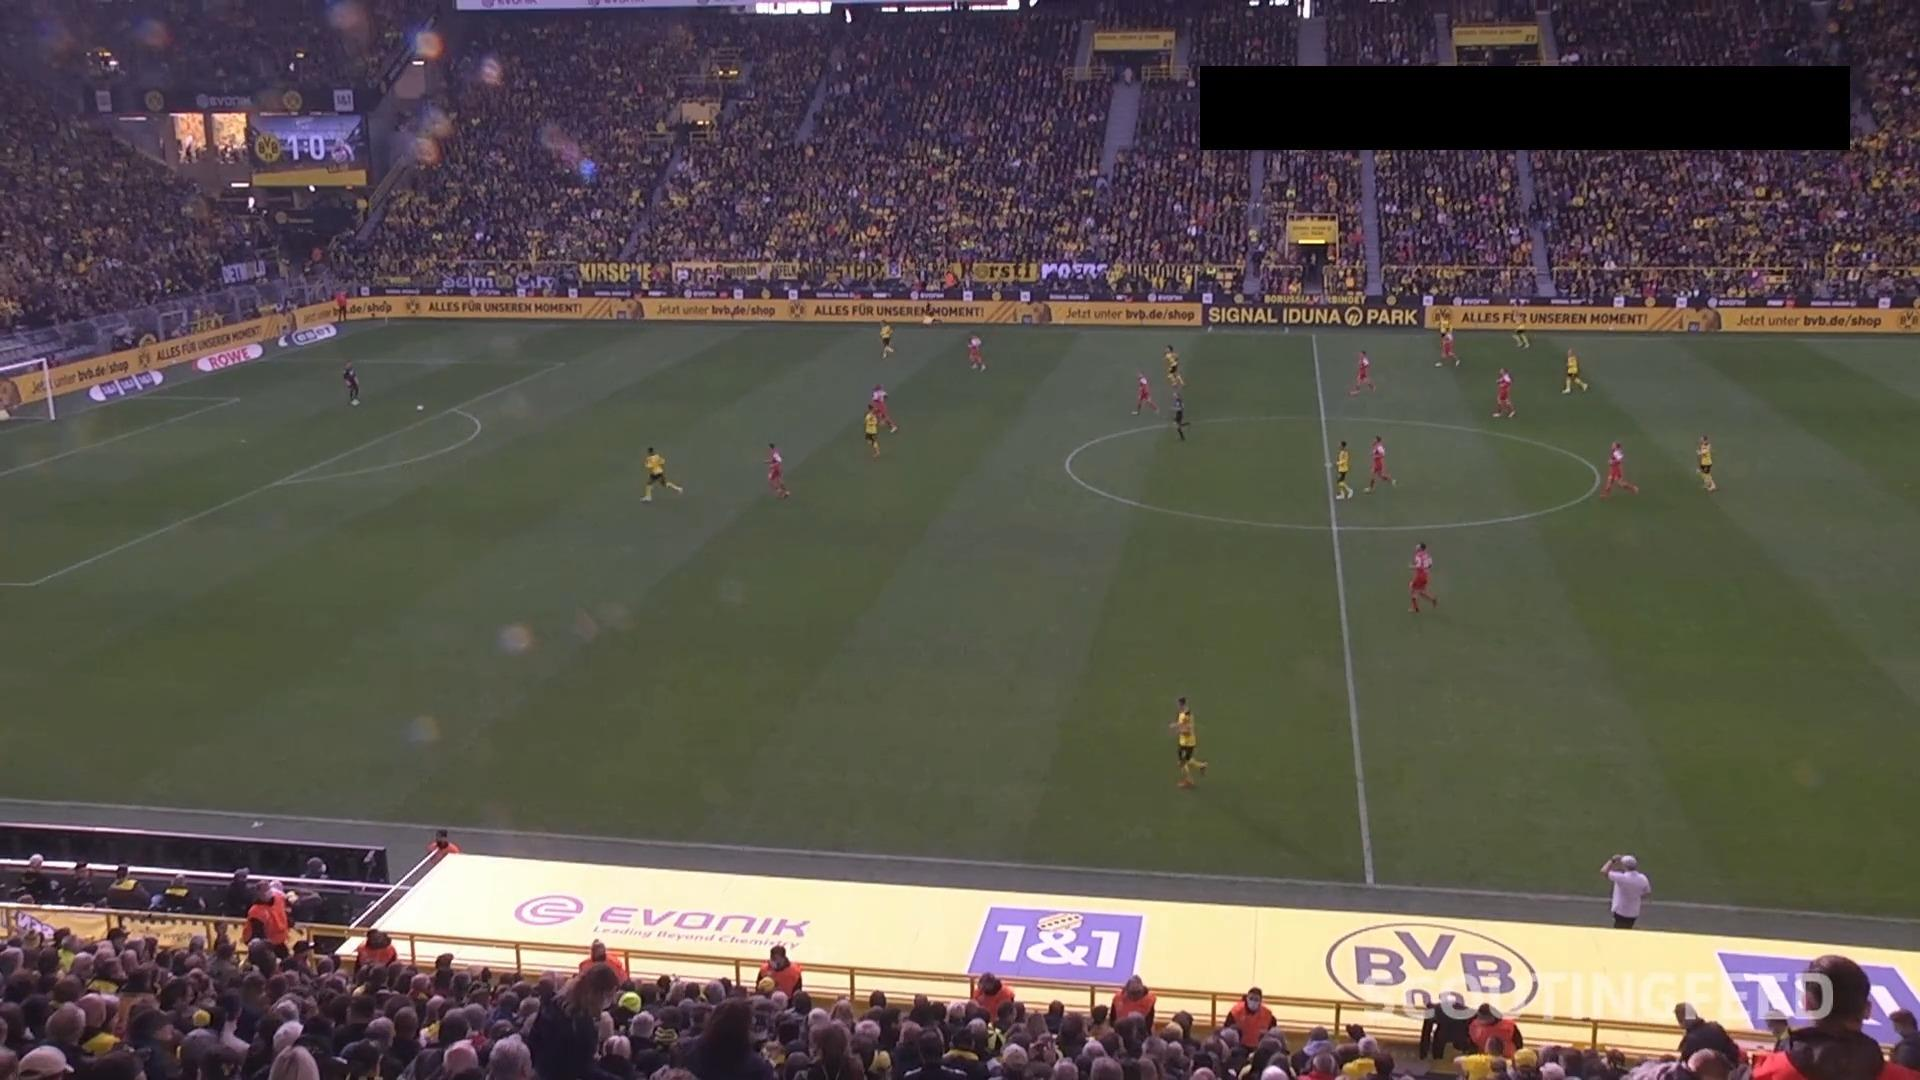ball: (415, 402, 425, 413)
